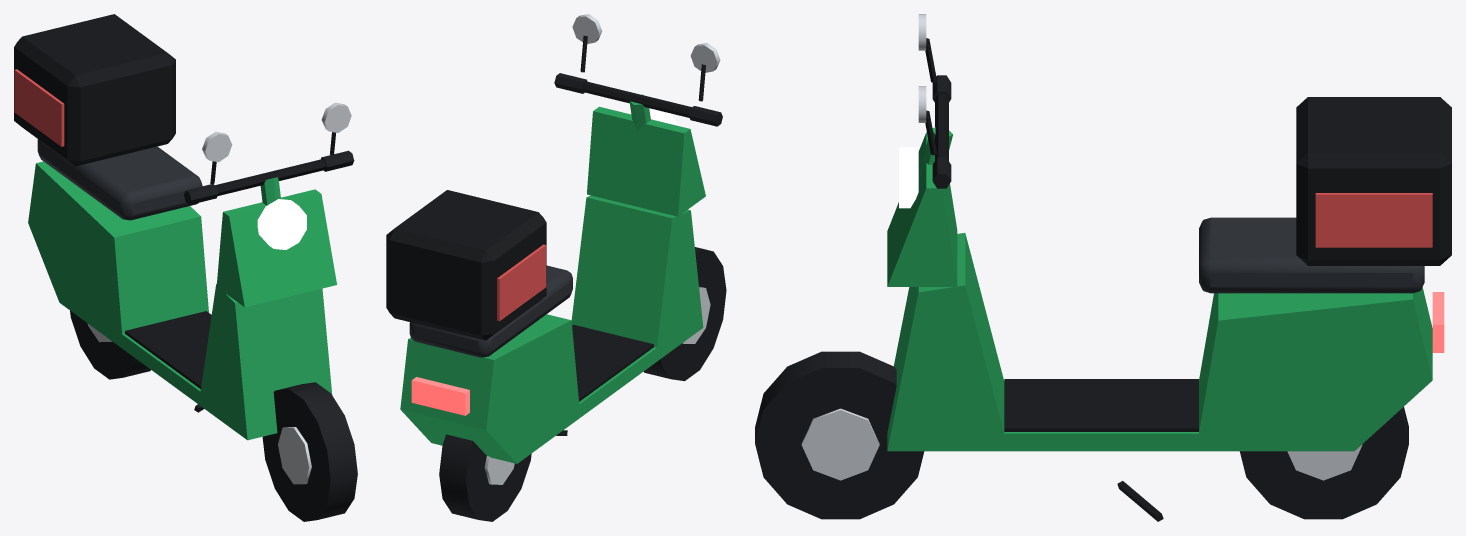
The model's file is scooter.glb.
3 views of the same model, side by side, from view 1: azimuth 30°, elevation 25°; view 2: azimuth 150°, elevation 25°; view 3: azimuth 270°, elevation 25° (orthographic). The views are drawn at different scales.
Visible parts, largest first — view 1: scooter; view 2: scooter; view 3: scooter.
Boxes of the visible parts, x1,y1,x2,y2 form: scooter: [14, 14, 357, 521]; scooter: [386, 14, 726, 521]; scooter: [755, 14, 1451, 521].
Bounding box in the file's own units: 0.6 × 1.3 × 1.79.
